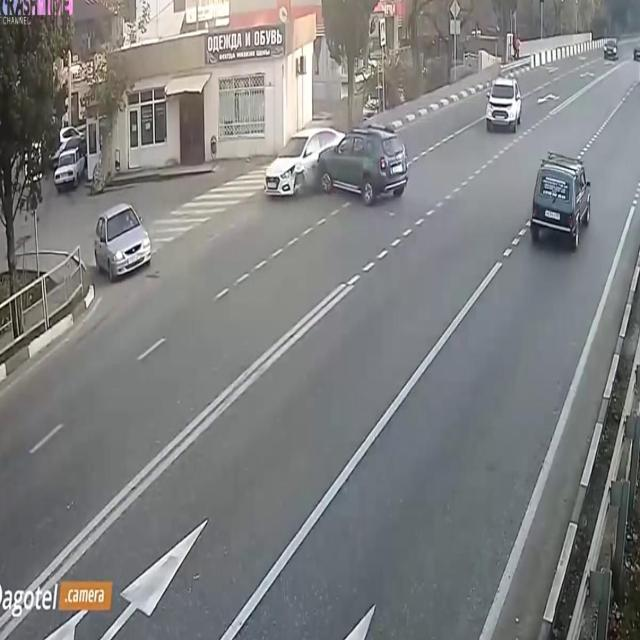accident: (255, 114, 413, 210)
